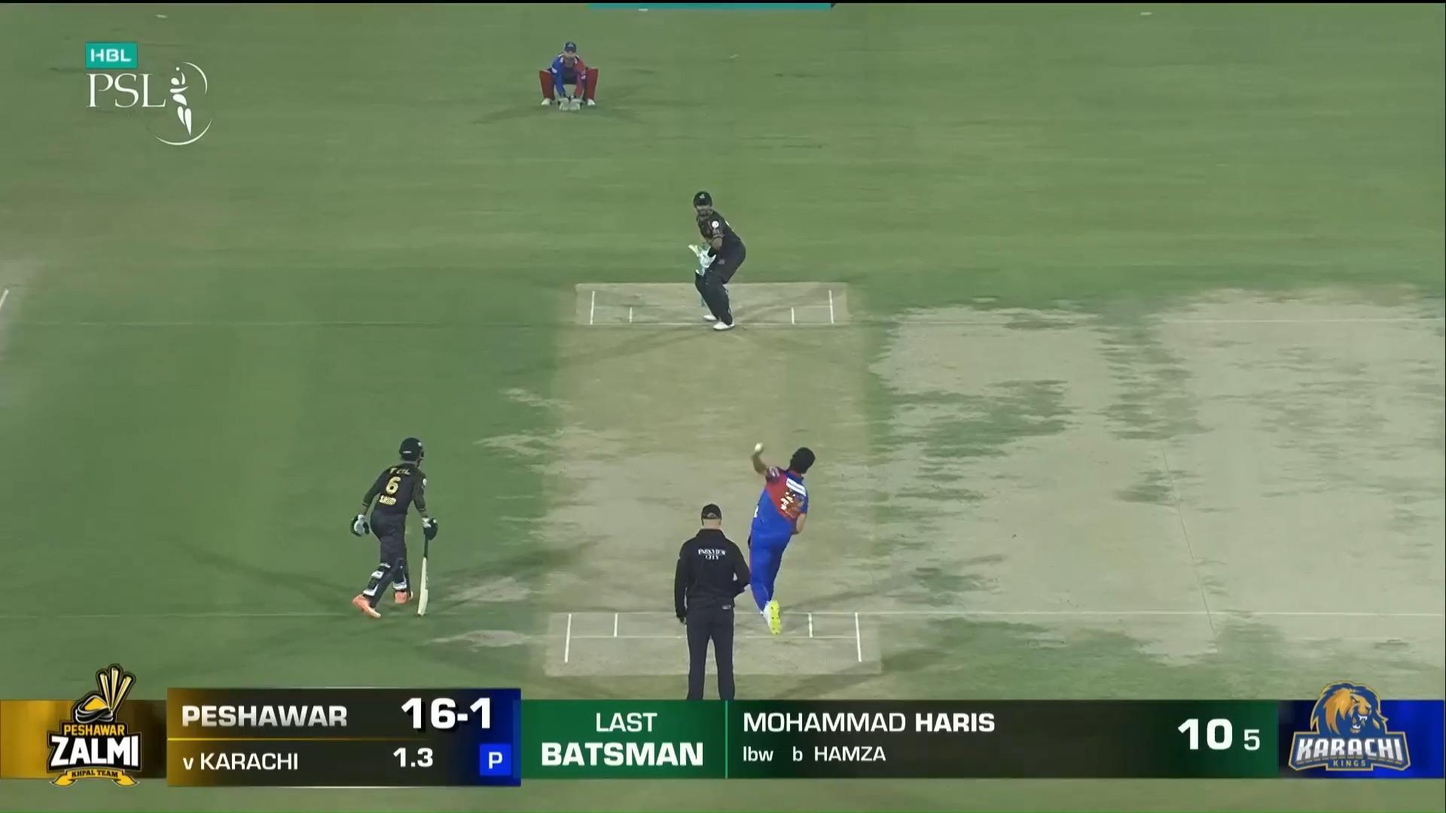batsman: (688, 190, 747, 332)
